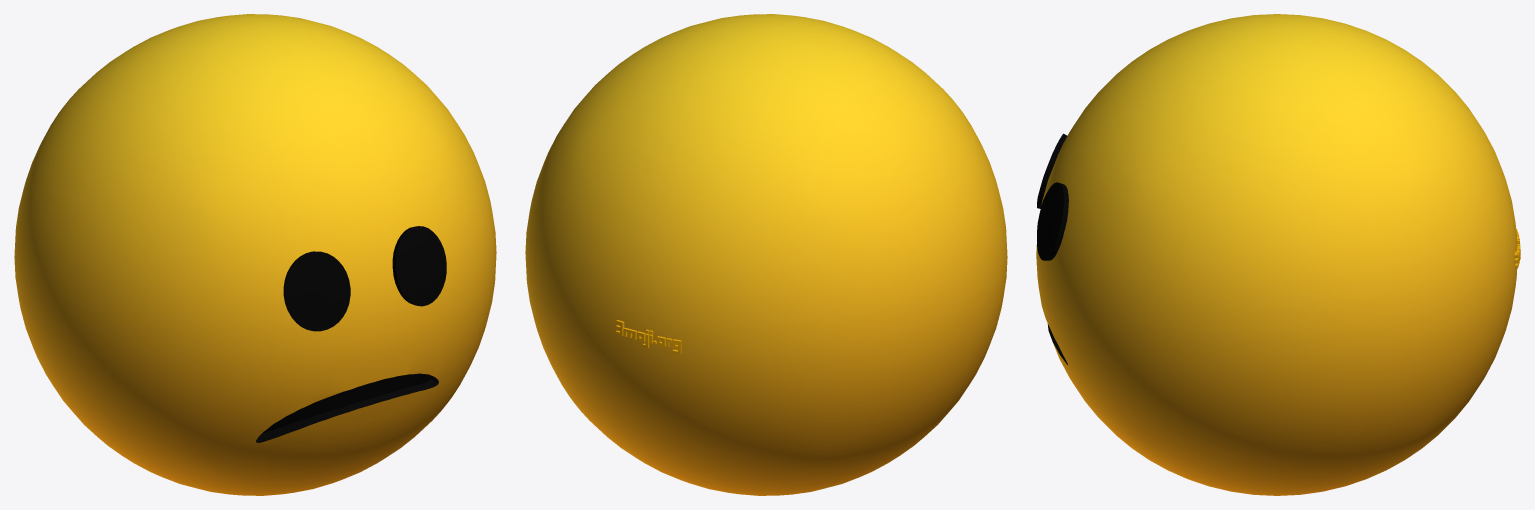
Rendered from confused_face.gltf.
3 renders of one model, left to right at view 1: azimuth 30°, elevation 25°; view 2: azimuth 150°, elevation 25°; view 3: azimuth 270°, elevation 25°, orthographic.
Parts seen in each view (by area): view 1: Confused Face; view 2: Confused Face; view 3: Confused Face.
Boxes of the visible parts, x1,y1,x2,y2 form: Confused Face: (14, 14, 496, 495); Confused Face: (525, 14, 1007, 495); Confused Face: (1036, 14, 1520, 495).
Bounding box in the file's own units: 1.69 × 1.69 × 1.7.
Materials: 2 (2 with a texture image).
